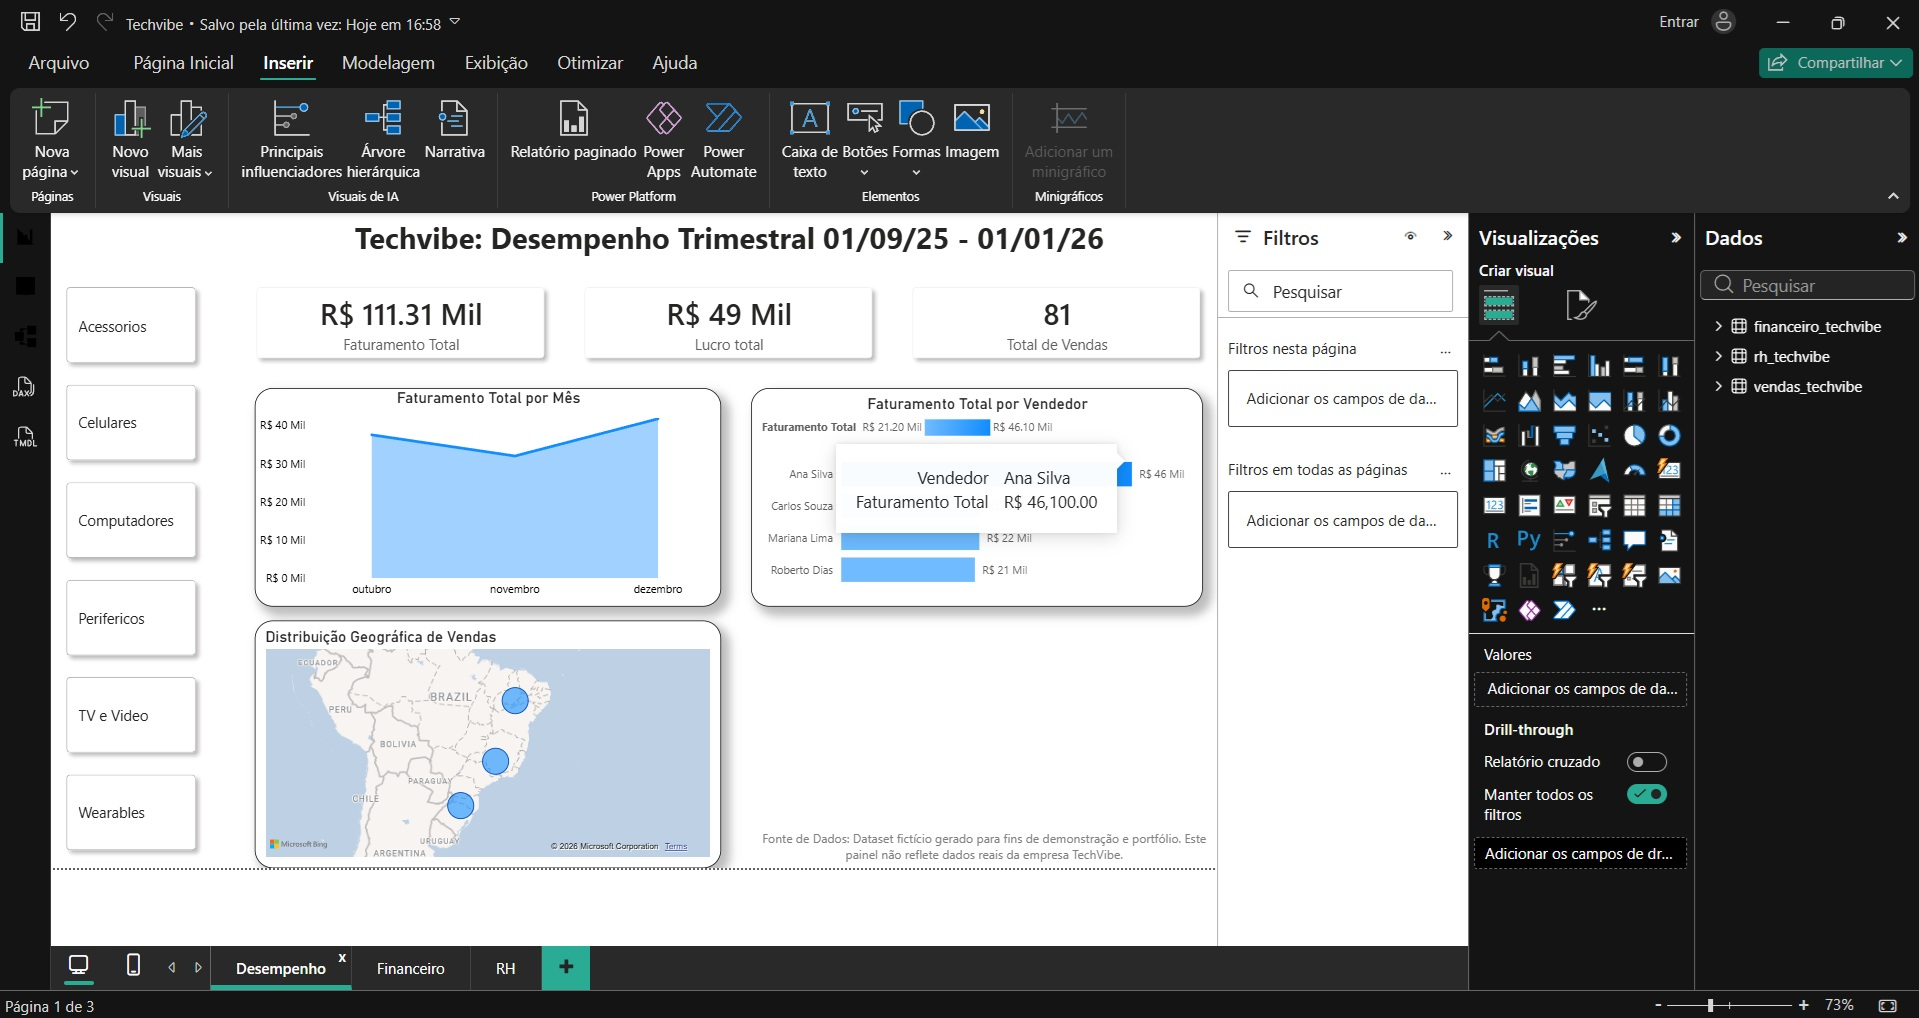

This screenshot's page, from the dashboard's own definition file:
{"tool":"powerbi","page":{"name":"Desempenho","canvas":[1280,720],"ordinal":0},"visuals":[{"type":"cardVisual","fields":{"Data":["vendas_techvibe.Total_Faturamento","vendas_techvibe.Total_Lucro","vendas_techvibe.Total de Vendas"]},"box":[208,64,1072,112],"z":1000},{"type":"textbox","box":[208,0,1072,64],"z":2000},{"type":"areaChart","title":"Faturamento Total por Mês","fields":{"Category":["vendas_techvibe.Data.Variation.Hierarquia de datas.Mês"],"Y":["vendas_techvibe.Total_Faturamento"]},"box":[224,192,512,240],"z":3000},{"type":"clusteredBarChart","title":"Faturamento Total por Vendedor","fields":{"Y":["vendas_techvibe.Total_Faturamento"],"Category":["vendas_techvibe.Vendedor"]},"box":[768,192,496,240],"z":4000},{"type":"map","title":"Distribuição Geográfica de Vendas","fields":{"Category":["vendas_techvibe.Localização Completa"]},"box":[224,448,512,272],"z":5000},{"type":"advancedSlicerVisual","fields":{"Values":["vendas_techvibe.Categoria"]},"box":[0,64,176,656],"z":6000},{"type":"textbox","box":[768,672,512,48],"z":6001}]}

Visuals, with their boxes on the page's 1280x720 design canvas (x1, y1, x2, y2). These are canvas units, not pixel positions in the 1919x1018 screenshot, which may show the page scaled, cropped or inside an application window:
cardVisual - vendas_techvibe.Total_Faturamento x vendas_techvibe.Total_Lucro: left=208, top=64, right=1280, bottom=176
textbox: left=208, top=0, right=1280, bottom=64
"Faturamento Total por Mês" areaChart: left=224, top=192, right=736, bottom=432
"Faturamento Total por Vendedor" clusteredBarChart: left=768, top=192, right=1264, bottom=432
"Distribuição Geográfica de Vendas" map: left=224, top=448, right=736, bottom=720
advancedSlicerVisual - vendas_techvibe.Categoria: left=0, top=64, right=176, bottom=720
textbox: left=768, top=672, right=1280, bottom=720
